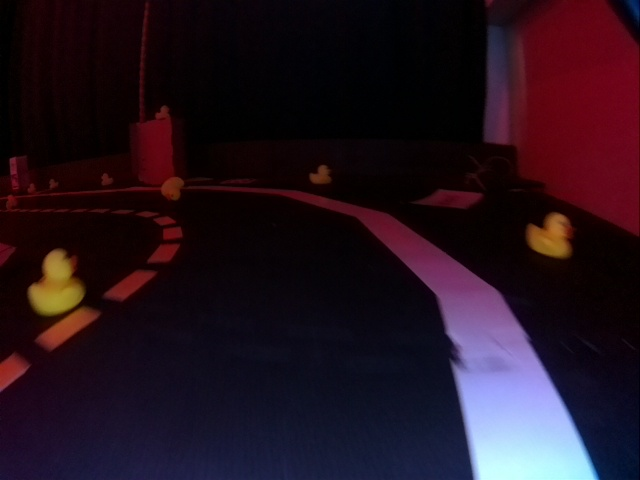Duckie: (27, 249, 83, 312), (528, 214, 573, 255), (161, 178, 182, 200), (309, 165, 330, 184), (156, 107, 170, 119)
QR code: (223, 177, 254, 186)
